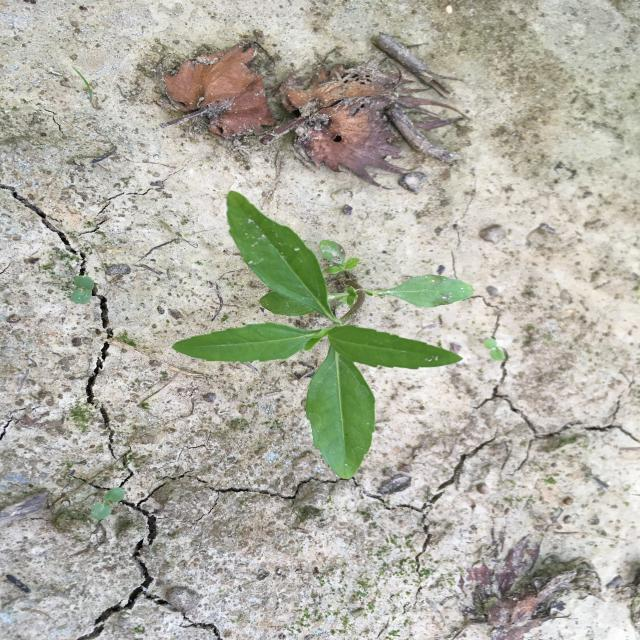Eclipta: (171, 189, 477, 480)
